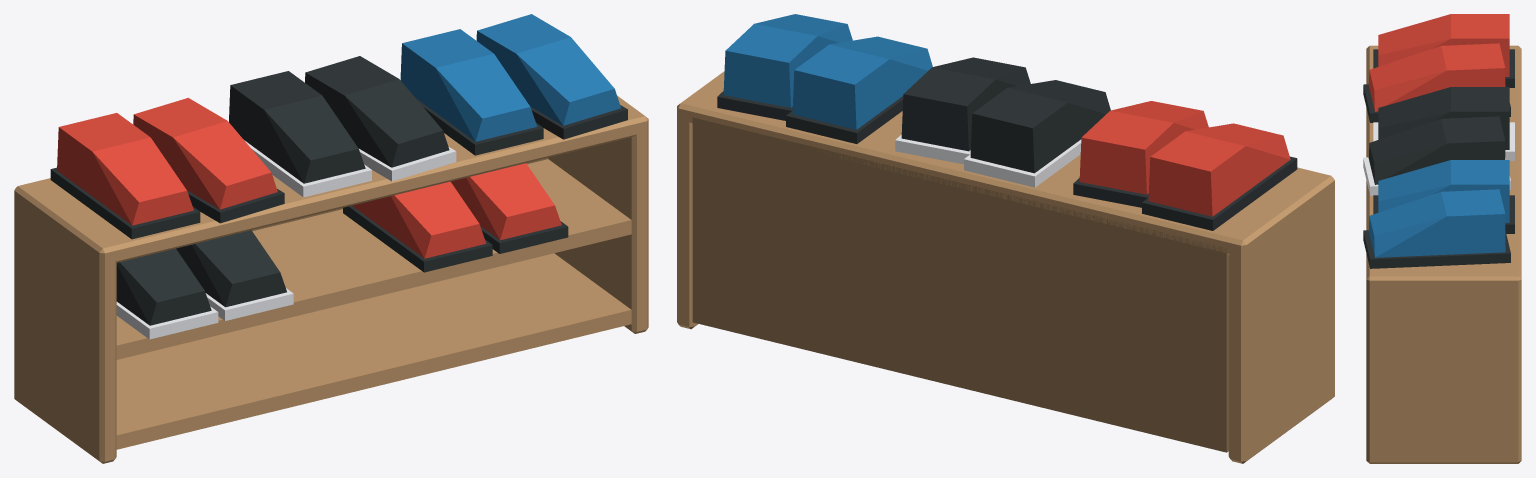
Rendered from shoeRack.glb.
The picture shows the model from 3 angles, left to right: view 1: azimuth 30°, elevation 25°; view 2: azimuth 150°, elevation 25°; view 3: azimuth 270°, elevation 25°; orthographic projection. The views are drawn at different scales.
Visible parts, largest first — view 1: shoeRack-m; view 2: shoeRack-m; view 3: shoeRack-m.
Part boxes in pixels (x1,y1,x2,y2): shoeRack-m: [14, 14, 648, 463]; shoeRack-m: [677, 14, 1334, 463]; shoeRack-m: [1363, 14, 1521, 463].
Bounding box in the file's own units: 1.6 × 0.75 × 0.459.
